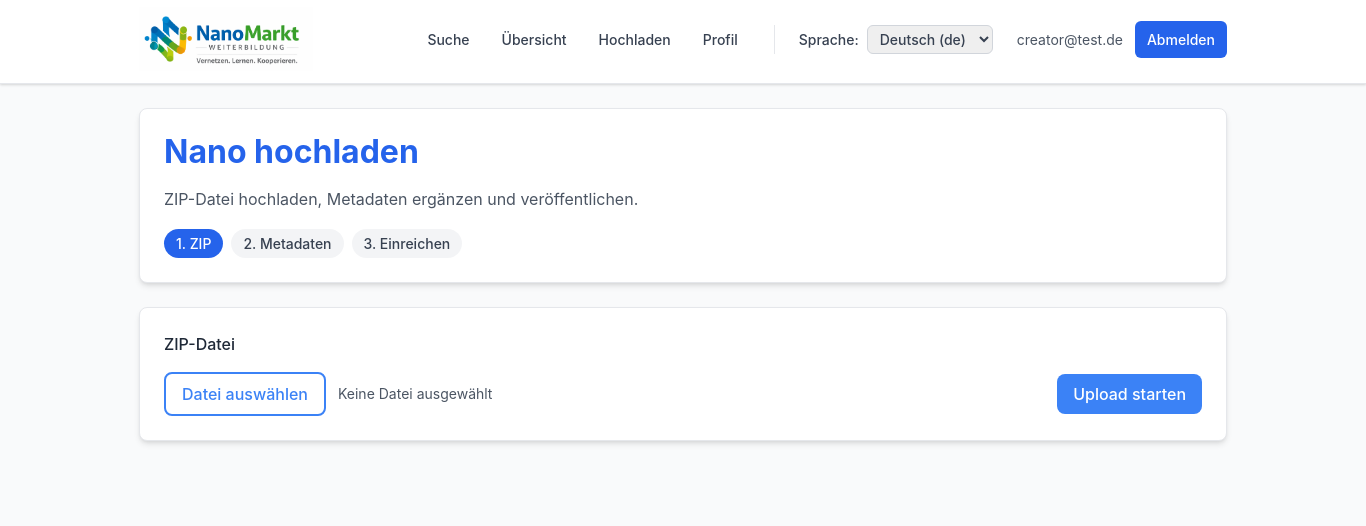
Test: UploadWizardPage › shows an inline validation error when upload starts without file
Click the button "Upload starten". click: (1130, 394)
box: [1057, 374, 1202, 414]
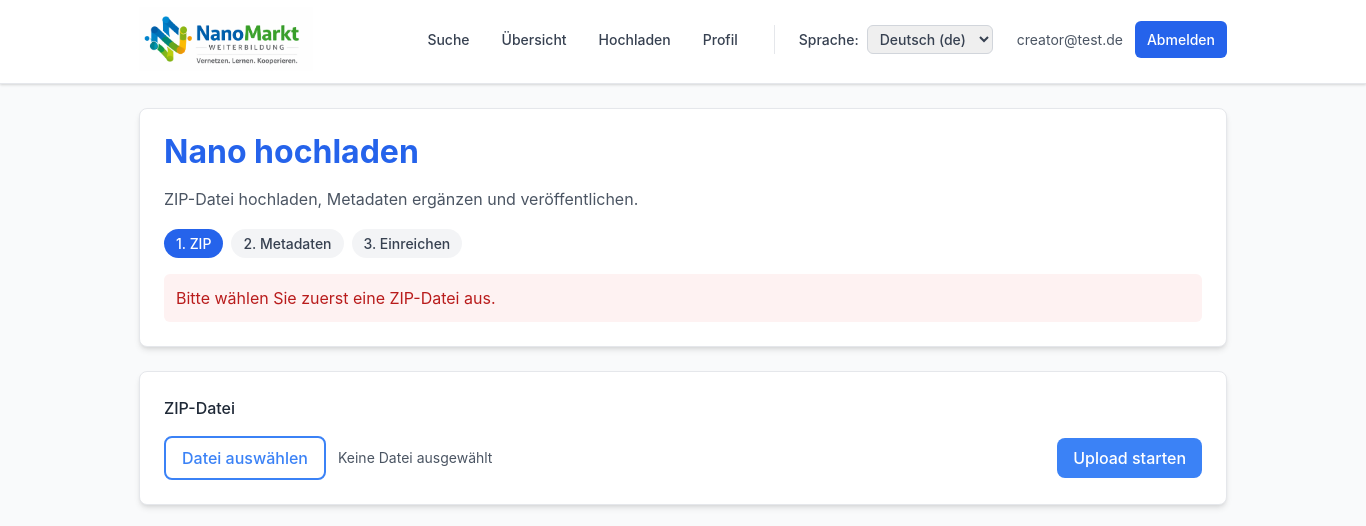
Result: the text "Bitte wählen Sie zuerst eine ZIP-Datei aus." is shown at [164, 274, 1202, 322]
